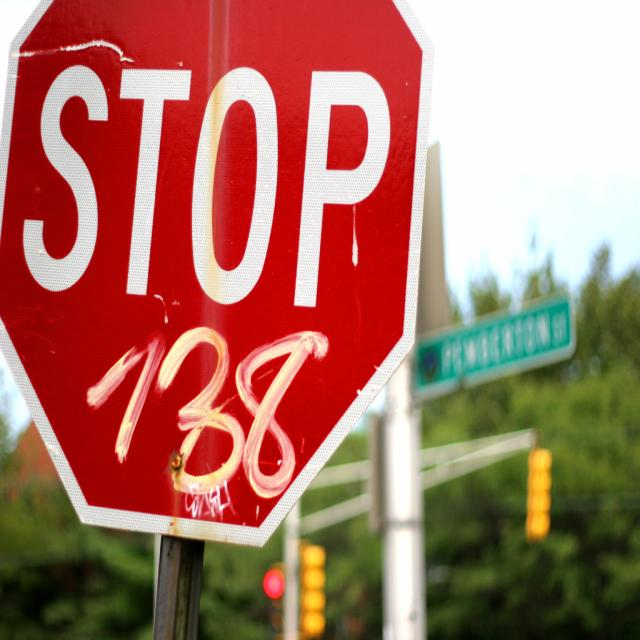Stop-sign: (0, 0, 434, 550)
